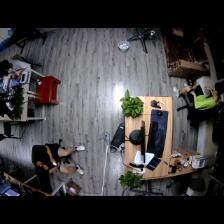normal: (30, 143, 87, 175), (173, 82, 218, 113), (1, 57, 27, 79)
